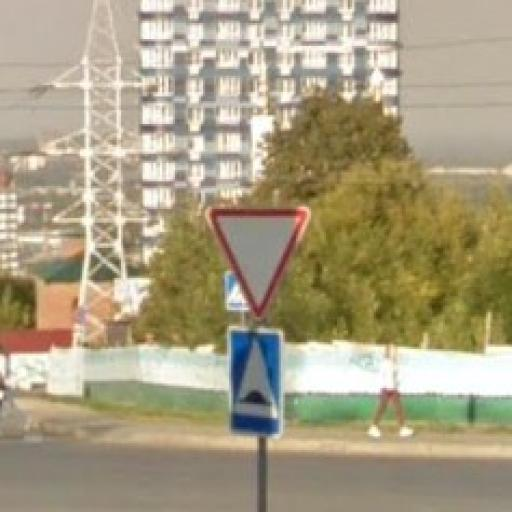traffic_sign: (206, 201, 312, 322), (226, 325, 288, 442)
